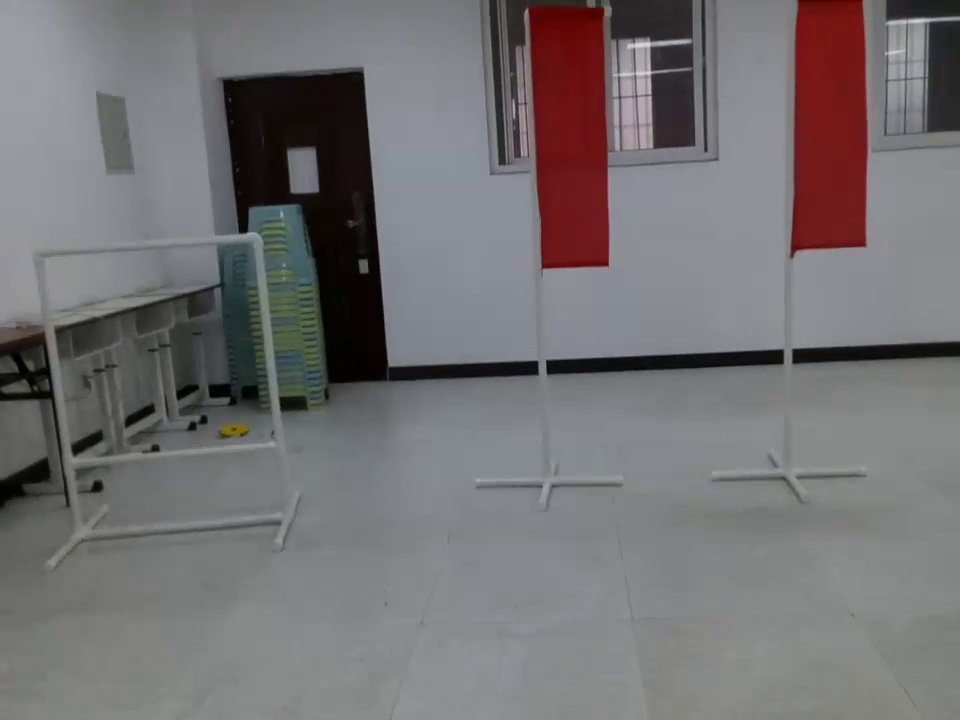qi: (522, 4, 618, 279), (789, 1, 881, 271)
